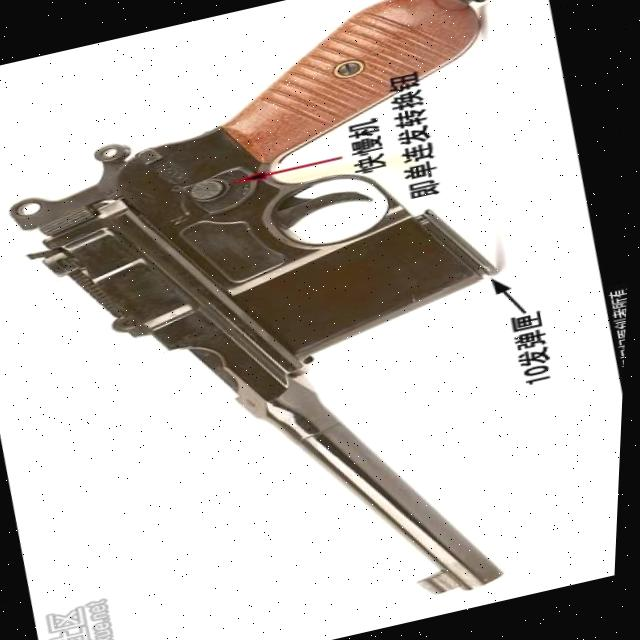pistol: (0, 0, 608, 640)
